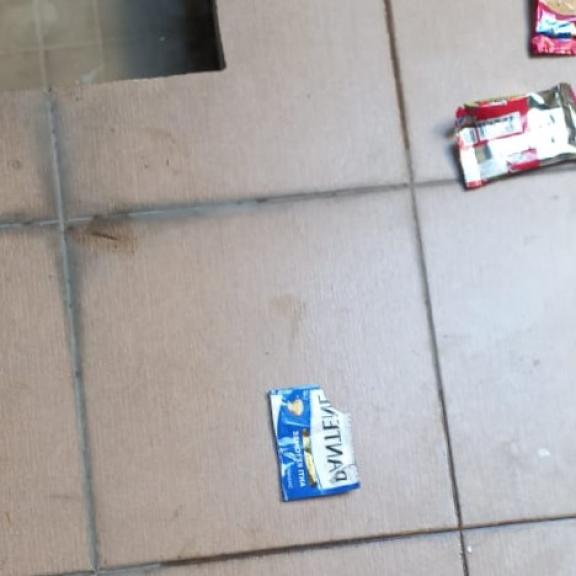Plastik: (453, 82, 576, 191), (268, 385, 361, 501), (529, 0, 575, 55)
